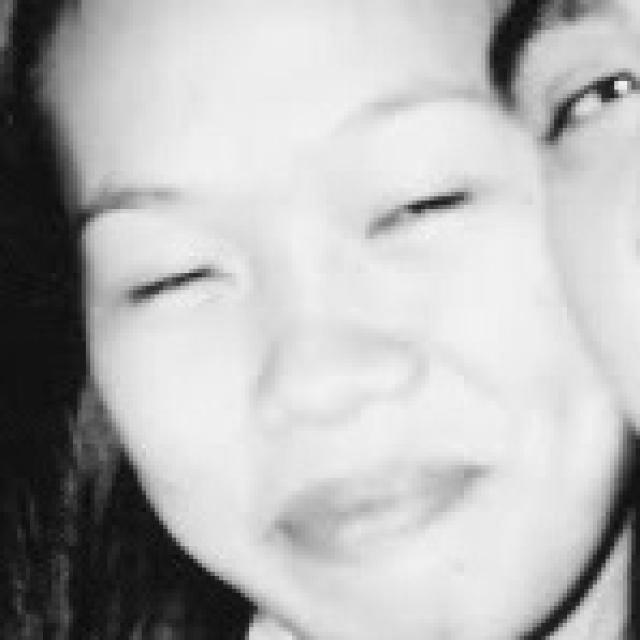real: (33, 10, 609, 639), (118, 192, 502, 322)
